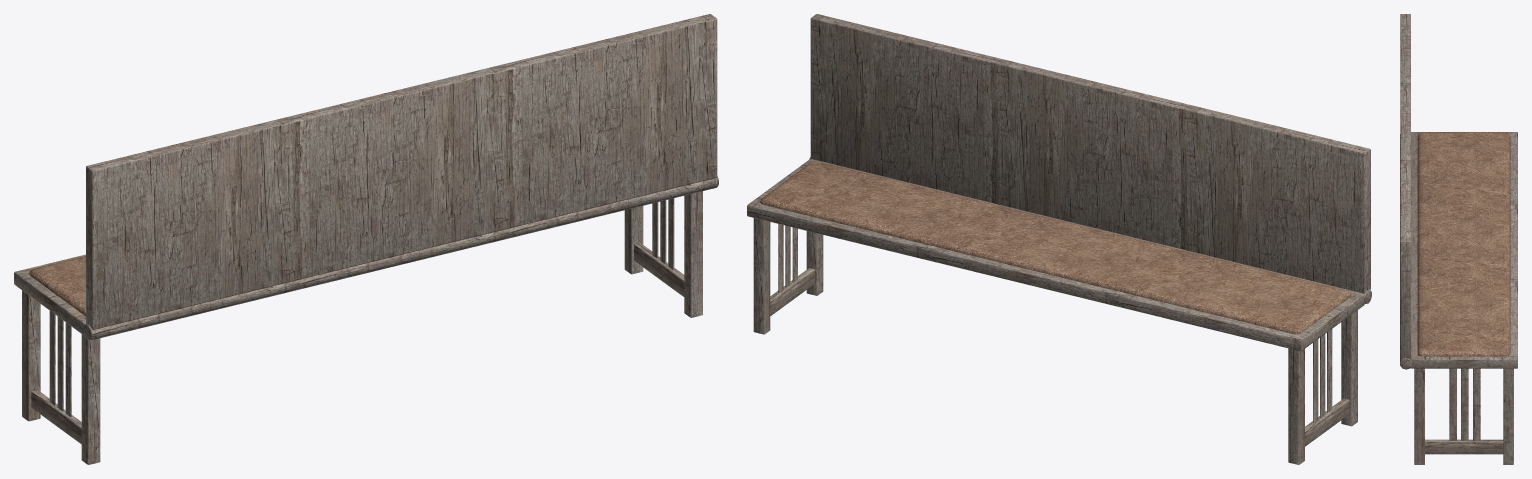
Rendered from BenchWithBackrestAndPadded.FBX.
The picture shows the model from 3 angles, left to right: view 1: azimuth 30°, elevation 25°; view 2: azimuth 150°, elevation 25°; view 3: azimuth 270°, elevation 25°; orthographic projection. The views are drawn at different scales.
Parts seen in each view (by area): view 1: BenchWithBackrestAndPadded; view 2: BenchWithBackrestAndPadded; view 3: BenchWithBackrestAndPadded.
Boxes of the visible parts, x1,y1,x2,y2 form: BenchWithBackrestAndPadded: (14, 14, 718, 464); BenchWithBackrestAndPadded: (747, 14, 1371, 464); BenchWithBackrestAndPadded: (1400, 14, 1517, 464).
Bounding box in the file's own units: 988 × 455 × 216.
